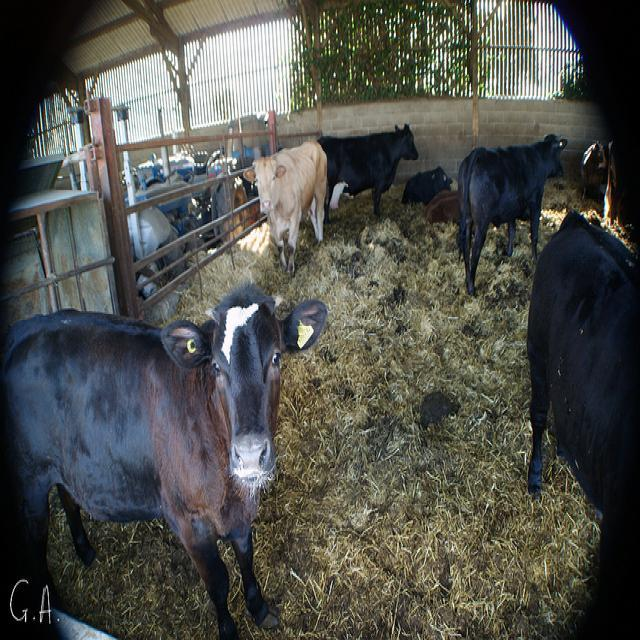cow: (1, 281, 326, 630), (525, 209, 639, 613), (455, 129, 565, 295), (242, 139, 326, 277), (317, 121, 418, 223), (399, 165, 451, 204), (424, 187, 459, 221), (135, 157, 162, 179), (148, 150, 163, 160)
